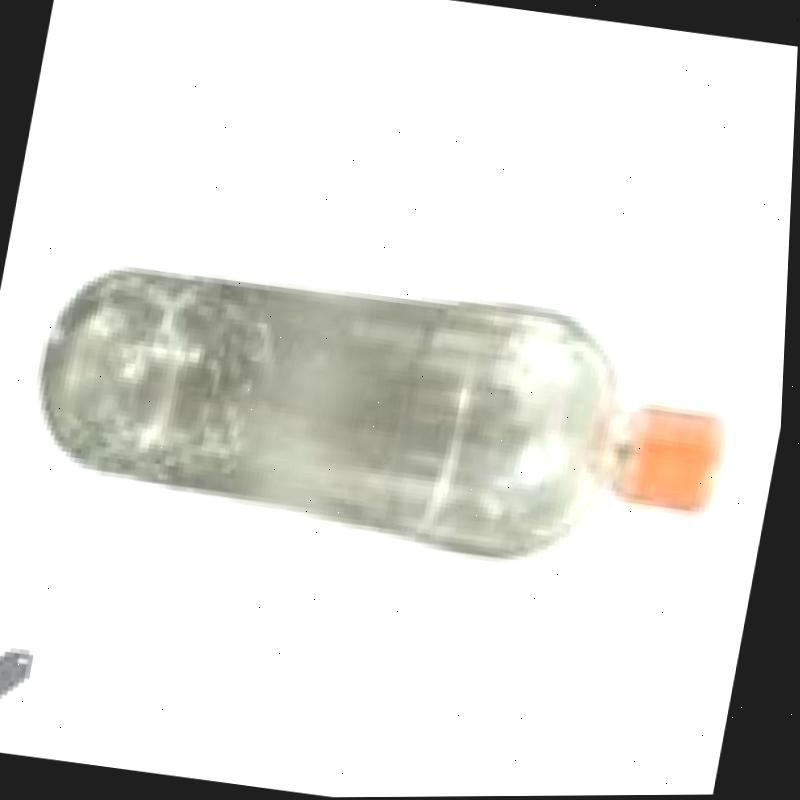botella: (25, 243, 748, 601)
